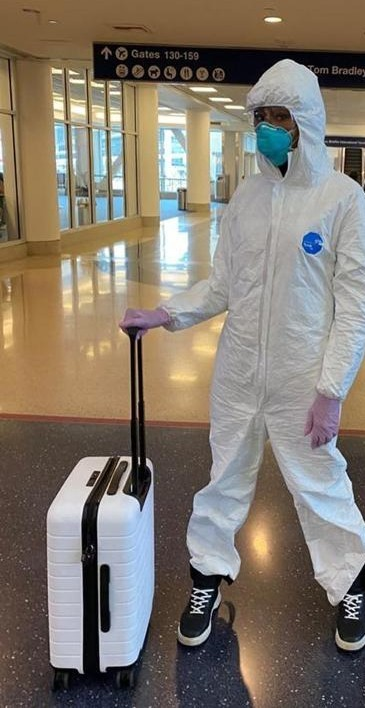with_mask: (241, 75, 319, 177)
